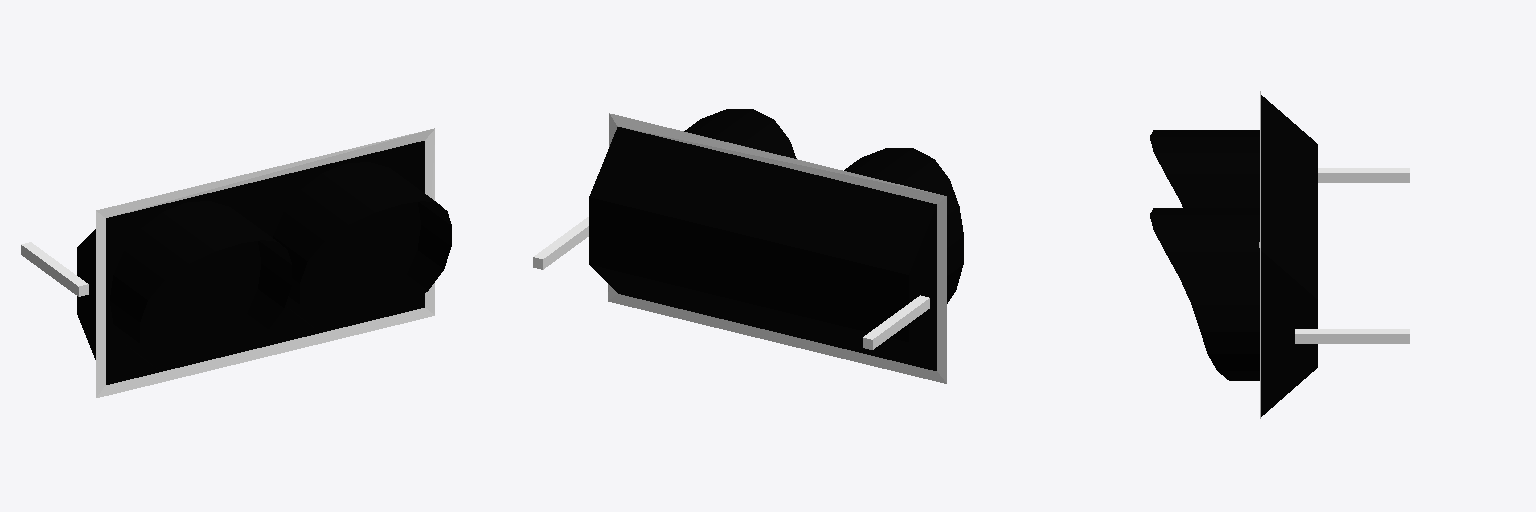
Rendered from TLS3_short.obj.
The picture shows the model from 3 angles: view 1: azimuth 30°, elevation 25°; view 2: azimuth 150°, elevation 25°; view 3: azimuth 270°, elevation 25°; orthographic projection.
Size of the model in its own units: 2.12 by 1.12 by 1.41.